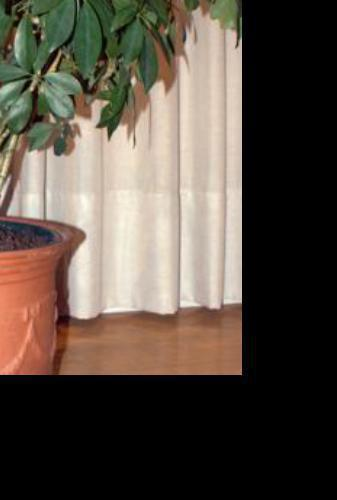Matera: (0, 0, 278, 442)
